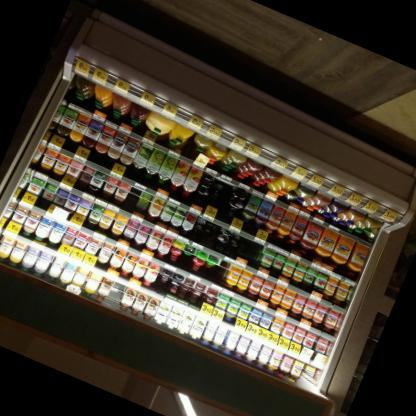empty_space: (120, 181, 146, 215)
